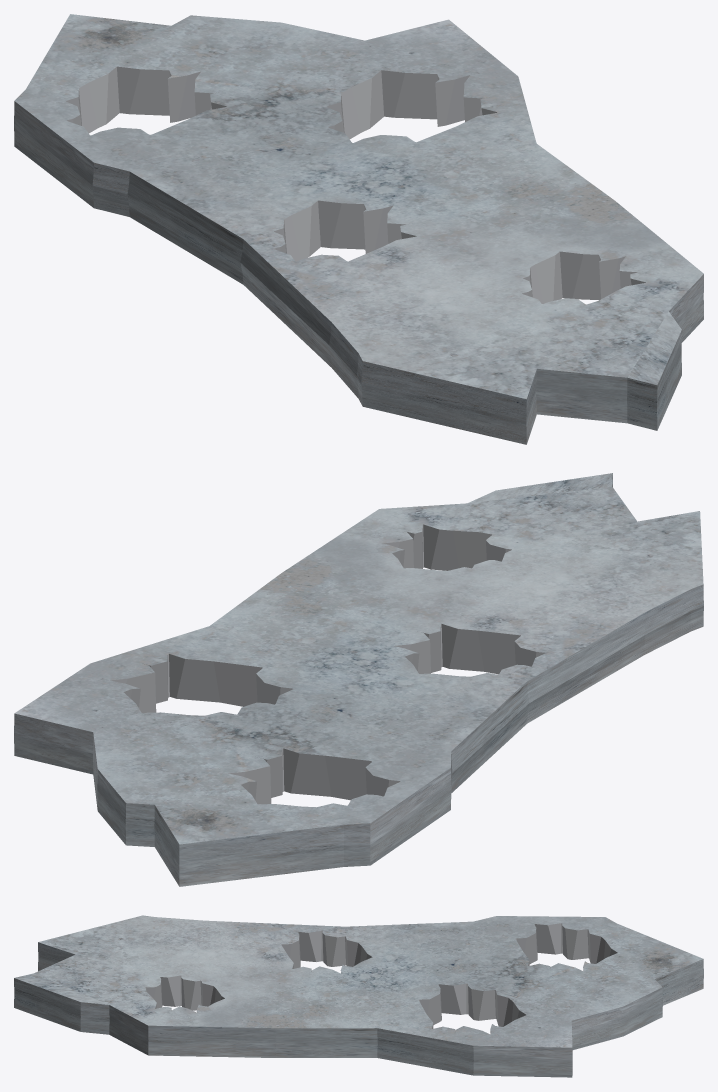
Rendered from bujeros.fbx.
3 views of the same model, one above another, from view 1: azimuth 30°, elevation 25°; view 2: azimuth 150°, elevation 25°; view 3: azimuth 270°, elevation 25° (orthographic). The views are drawn at different scales.
Visible parts, largest first — view 1: 0_PlataformaNormal2.001; view 2: 0_PlataformaNormal2.001; view 3: 0_PlataformaNormal2.001.
Boxes of the visible parts, x1,y1,x2,y2 form: 0_PlataformaNormal2.001: (14, 14, 703, 444); 0_PlataformaNormal2.001: (14, 473, 703, 886); 0_PlataformaNormal2.001: (14, 915, 703, 1077).
Bounding box in the file's own units: 4.93 × 0.5175 × 10.84.
1 material, 1 textured.
